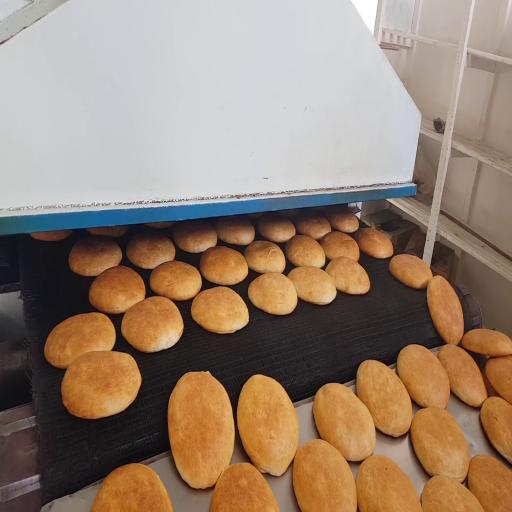bread: (168, 372, 234, 488), (237, 375, 298, 475), (62, 351, 141, 419), (314, 384, 375, 461), (293, 439, 357, 511), (410, 408, 469, 482), (356, 360, 412, 437), (44, 313, 115, 368), (91, 464, 172, 511), (356, 456, 421, 511), (122, 296, 183, 352), (397, 345, 450, 408), (210, 463, 278, 511), (438, 345, 487, 407), (89, 266, 145, 313), (191, 287, 248, 333), (427, 276, 463, 345), (468, 455, 511, 511), (422, 476, 483, 511), (69, 236, 122, 276), (248, 273, 297, 315), (480, 397, 511, 463), (150, 261, 201, 301), (200, 246, 248, 285), (288, 267, 336, 305), (126, 233, 175, 269), (326, 257, 370, 294), (389, 254, 432, 289), (174, 220, 217, 253), (462, 329, 511, 356), (244, 241, 285, 273), (286, 235, 325, 268), (486, 356, 511, 403), (321, 231, 359, 261), (355, 228, 393, 258), (215, 217, 254, 245), (258, 214, 295, 242), (296, 214, 331, 239), (327, 210, 359, 233), (479, 367, 499, 396), (31, 230, 72, 241), (87, 226, 128, 237), (279, 209, 303, 218), (145, 221, 174, 228)
